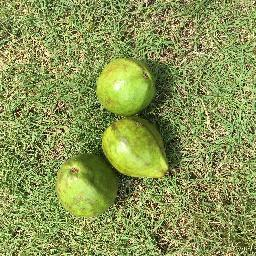Good_guava: (97, 117, 175, 184), (52, 150, 117, 215), (92, 58, 156, 115)
